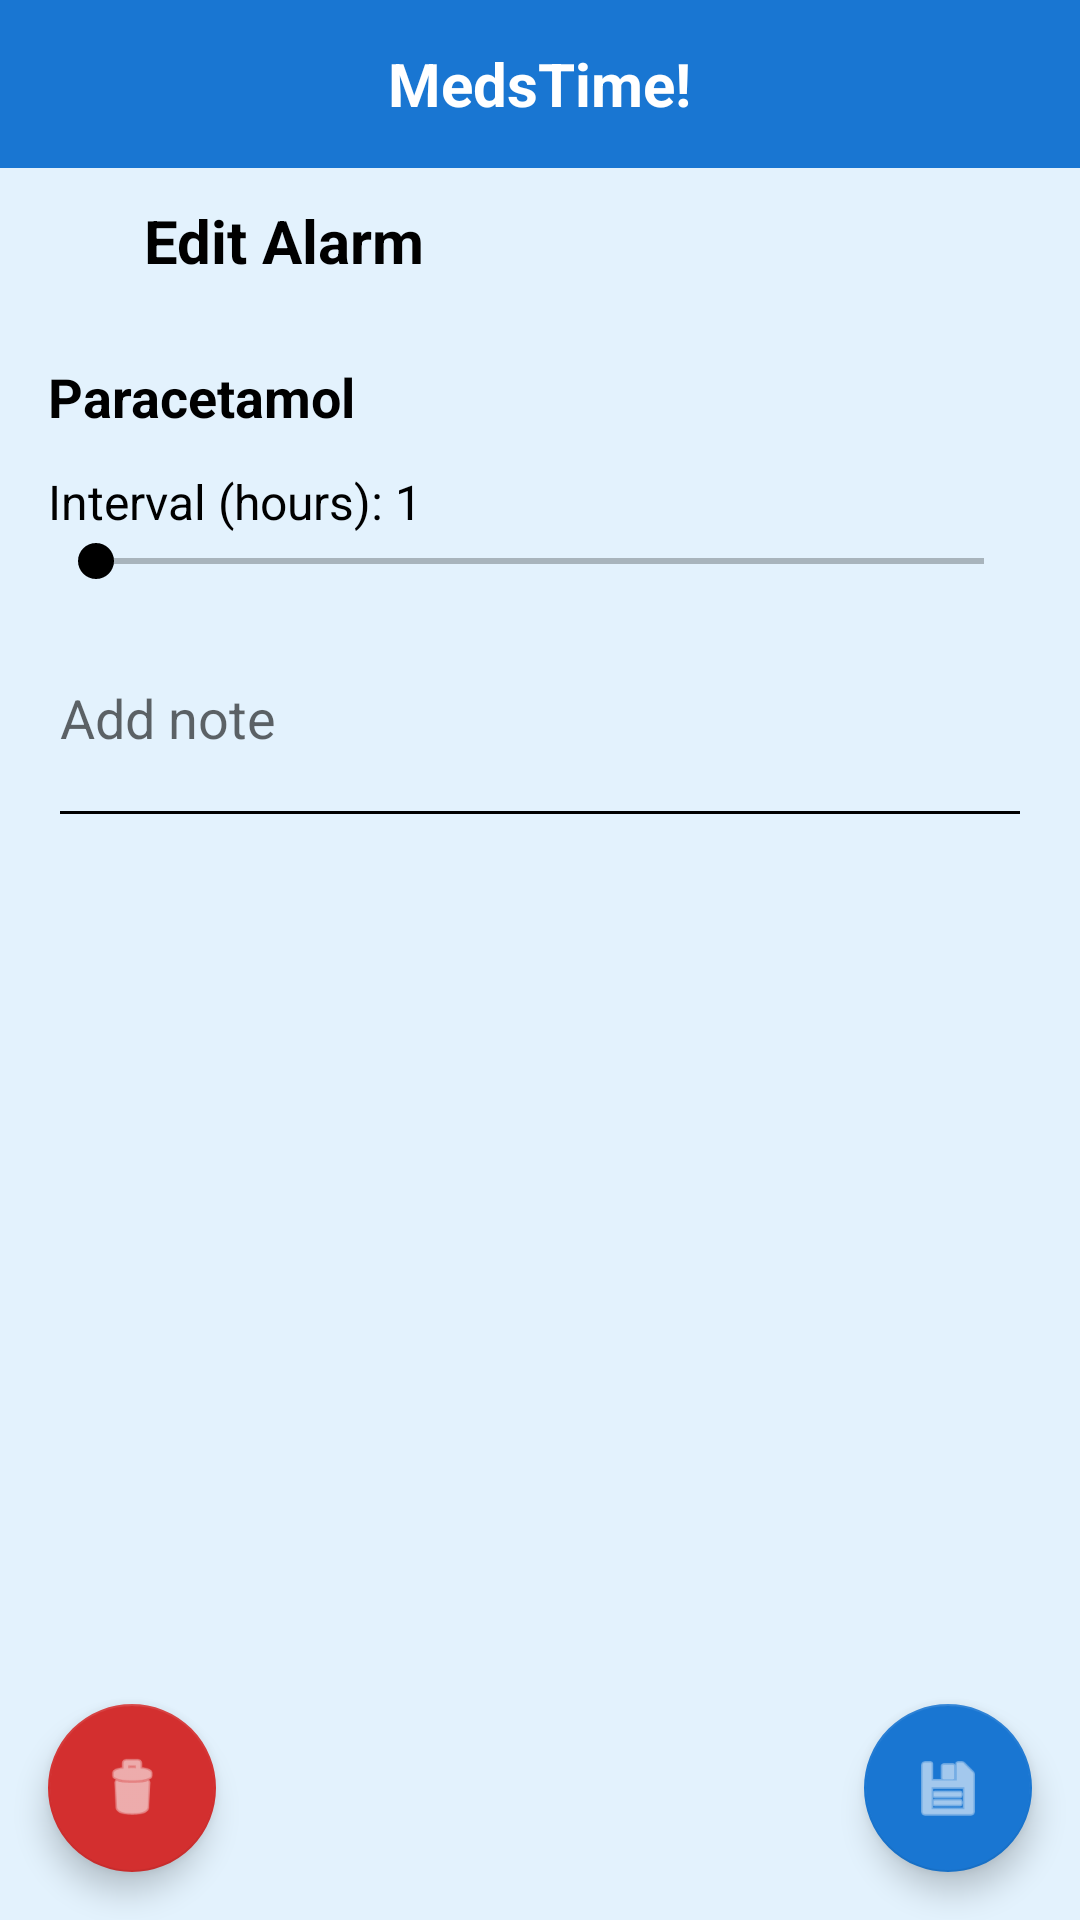

Icons on this 1080px x 1920px Android screen, each with the point to tap as (x=x, y=y):
delete: (x=132, y=1788)
save: (x=948, y=1788)
